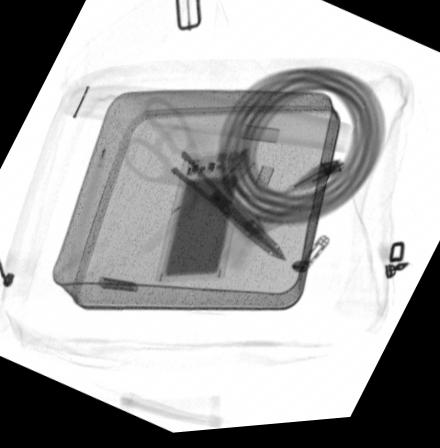Powerbank: (155, 148, 253, 286)
Scissors: (122, 97, 288, 268)
